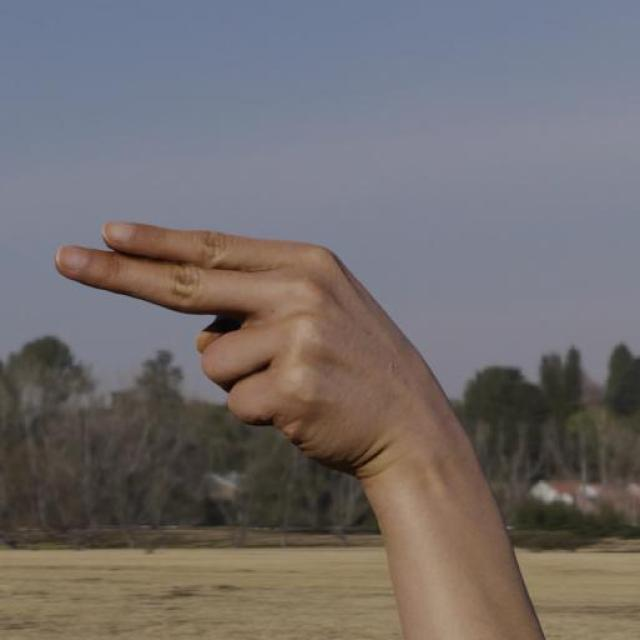H: (44, 211, 460, 541)
